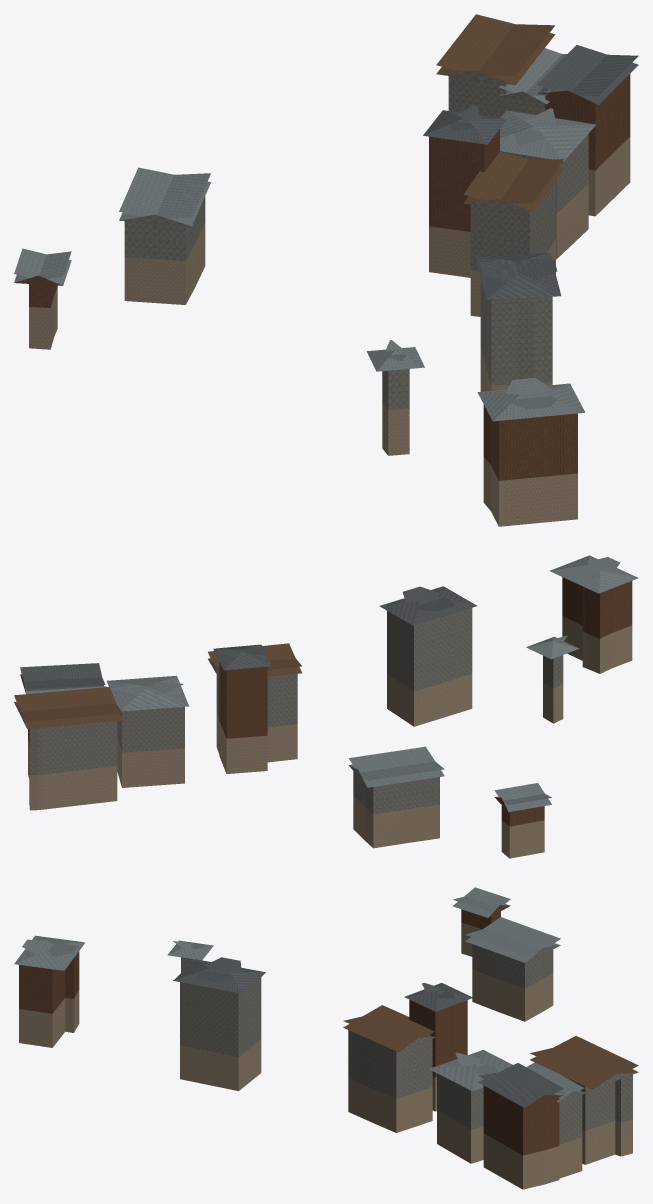
Rendered from bld_c28_-54_550.gltf.
The picture shows the model from 3 angles, top to bottom: view 1: azimuth 30°, elevation 25°; view 2: azimuth 150°, elevation 25°; view 3: azimuth 270°, elevation 25°; orthographic projection. The views are drawn at different scales.
Parts seen in each view (by area): view 1: bld_c28_-54_550; view 2: bld_c28_-54_550; view 3: bld_c28_-54_550.
Part boxes in pixels (<box>): bld_c28_-54_550: <box>14,14,638,526</box>; bld_c28_-54_550: <box>14,555,638,858</box>; bld_c28_-54_550: <box>14,887,638,1189</box>.
Size of the model in its own units: 76.53 by 18 by 84.6.
Materials: 8 (8 with a texture image).
